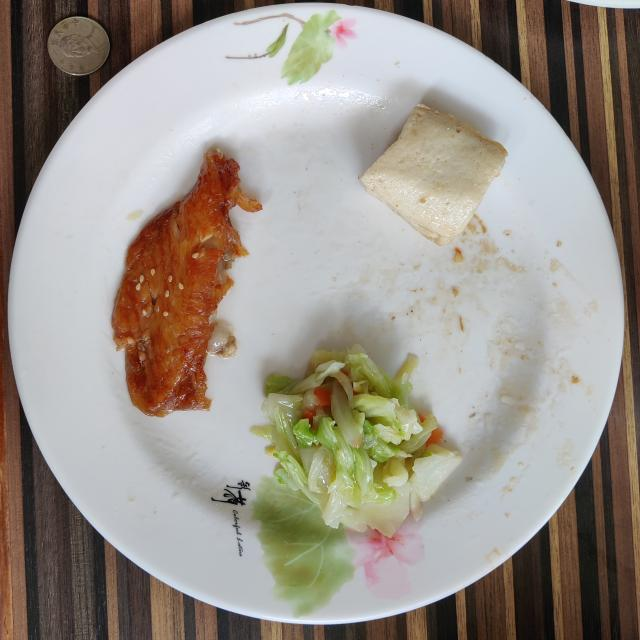Kabayaki sea bream fillet: (111, 149, 261, 416)
cabbage: (251, 344, 461, 536)
coin: (48, 16, 110, 75)
creamy tofu -without sauce-: (360, 104, 508, 245)
